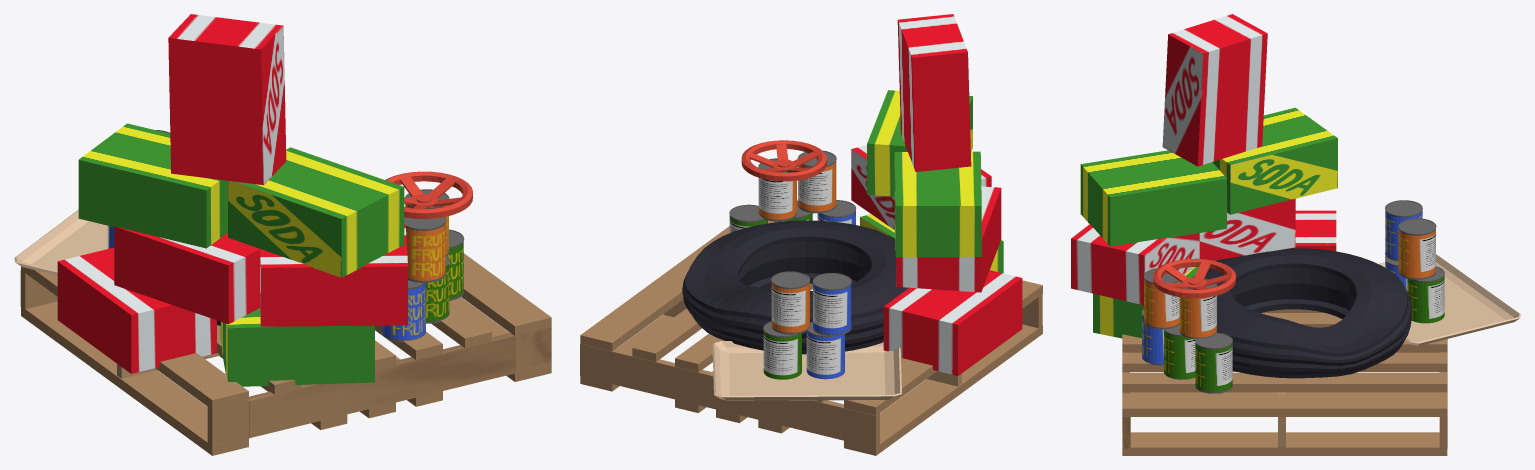
The model's file is Throne.fbx.
3 renders of one model, left to right at view 1: azimuth 30°, elevation 25°; view 2: azimuth 150°, elevation 25°; view 3: azimuth 270°, elevation 25°, orthographic. The views are drawn at different scales.
Visible parts, largest first — view 1: Cube.009, Cube.008, Cube.007, Cube.005, Cube.003, Cube.017, Cube.004, Cube.006, Cube.002, Tray, Cube.001, Cylinder.006 (+4 smaller); view 2: Cube.009, Tire, Cube.008, Cube.003, Cube.005, Tray, Cube.004, Cube.007, Cube.001, Cylinder.003, Cylinder.010, Cylinder.004 (+8 smaller); view 3: Cube.009, Tire, Cube.008, Cube.007, Cube.005, Cube.006, Tray, Cube.004, Cube.001, Cylinder.003, Cylinder.008, Cube.002 (+7 smaller).
Boxes of the visible parts, x1,y1,x2,y2 form: Cube.009: [20, 253, 551, 455]; Cube.008: [168, 14, 286, 185]; Cube.007: [228, 147, 404, 277]; Cube.005: [78, 123, 227, 248]; Cube.003: [57, 247, 216, 373]; Cube.017: [249, 333, 515, 438]; Cube.004: [114, 226, 259, 324]; Cube.006: [260, 224, 407, 326]; Cube.002: [220, 308, 374, 386]; Tray: [14, 210, 107, 275]; Cube.001: [385, 171, 472, 218]; Cylinder.006: [404, 217, 445, 282]; Cube.009: [580, 220, 1042, 455]; Tire: [682, 220, 908, 354]; Cube.008: [897, 14, 971, 171]; Cube.003: [883, 270, 1022, 375]; Cube.005: [894, 151, 981, 257]; Tray: [712, 341, 901, 400]; Cube.004: [896, 186, 1001, 292]; Cube.007: [867, 90, 972, 196]; Cube.001: [741, 140, 826, 181]; Cylinder.003: [771, 271, 810, 334]; Cylinder.010: [812, 273, 851, 335]; Cylinder.004: [763, 321, 801, 379]; Cube.009: [1122, 309, 1447, 455]; Tire: [1193, 248, 1411, 378]; Cube.008: [1162, 14, 1267, 166]; Cube.007: [1080, 150, 1226, 246]; Cube.005: [1212, 107, 1337, 214]; Cube.006: [1071, 224, 1199, 305]; Tray: [1378, 254, 1520, 345]; Cube.004: [1199, 198, 1295, 260]; Cube.001: [1153, 258, 1235, 298]; Cylinder.003: [1398, 218, 1436, 279]; Cylinder.008: [1195, 332, 1232, 393]; Cube.002: [1093, 260, 1216, 338].
Bounding box in the file's own units: 389 × 370 × 482.
31 materials, 19 textured.
